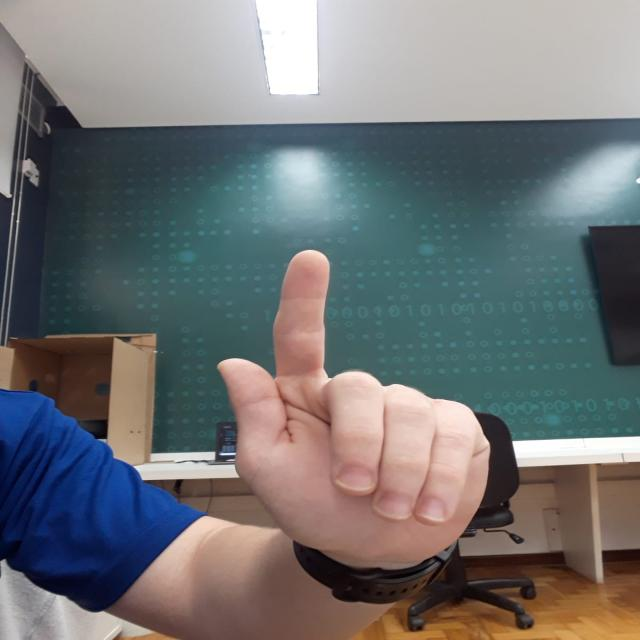G: (211, 244, 496, 558)
